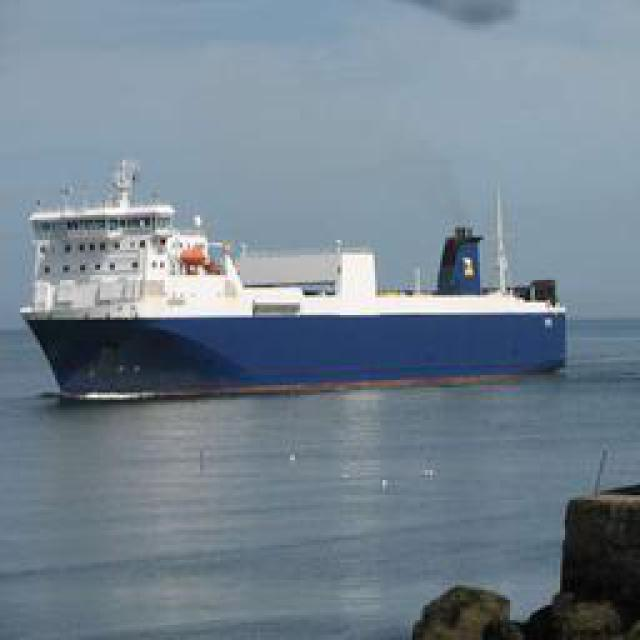Ship: (25, 179, 570, 392)
